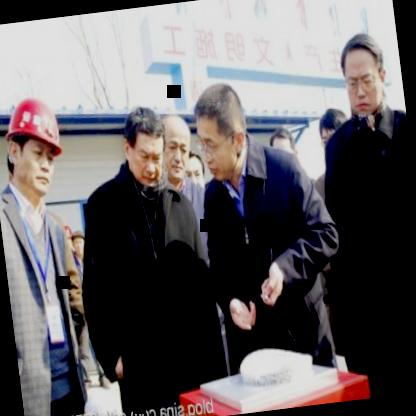head: (189, 76, 251, 186), (333, 25, 394, 120), (114, 99, 168, 189), (152, 109, 200, 185), (179, 146, 210, 204), (266, 124, 299, 178), (315, 100, 350, 148)
helmet: (0, 86, 66, 198)
